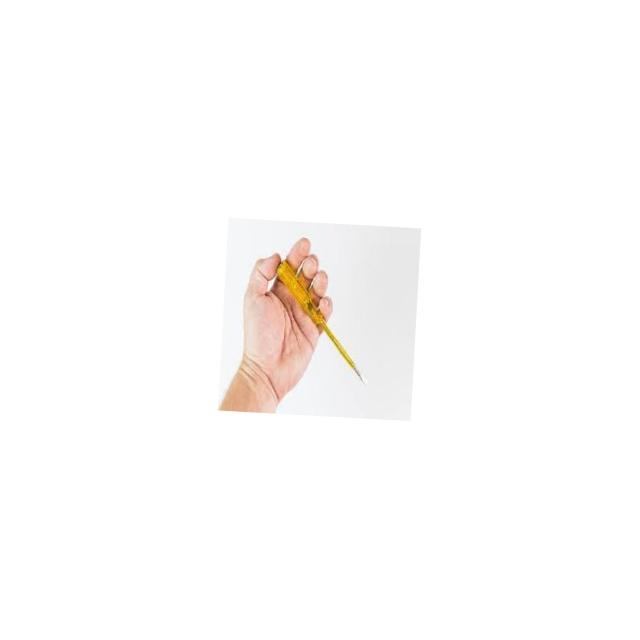screwdriver: (270, 258, 374, 386)
